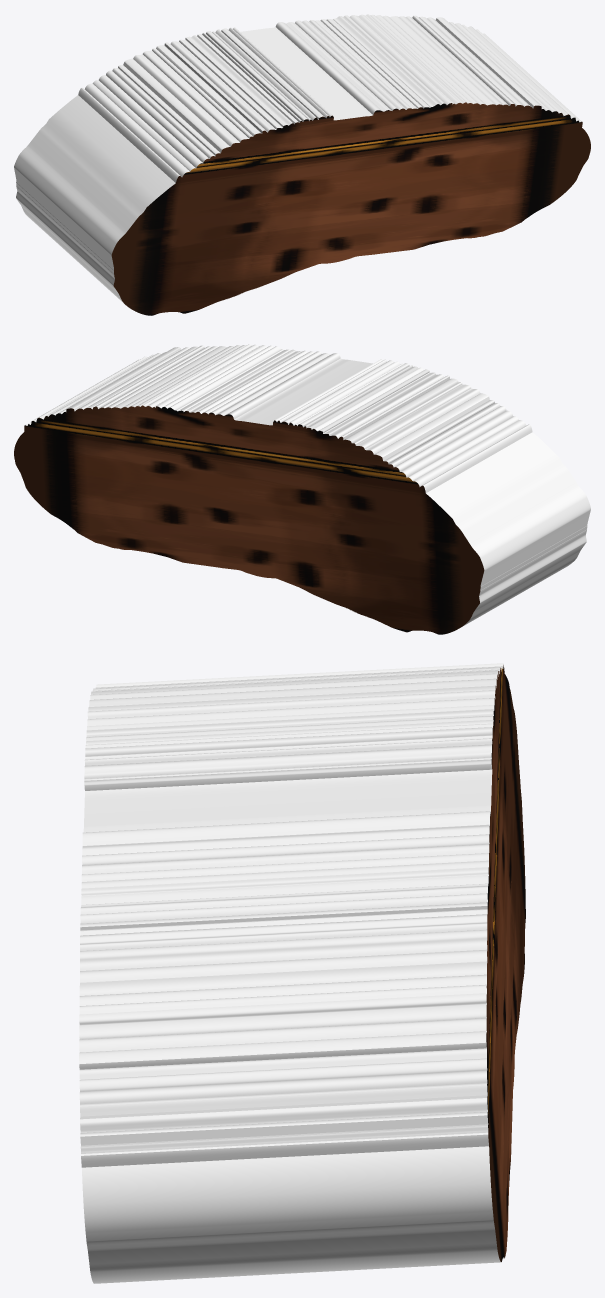
Rendered from Praia 3.0.dae.
The picture shows the model from 3 angles, top to bottom: view 1: azimuth 30°, elevation 25°; view 2: azimuth 150°, elevation 25°; view 3: azimuth 270°, elevation 25°; orthographic projection. The views are drawn at different scales.
Parts seen in each view (by area): view 1: Camada_1; view 2: Camada_1; view 3: Camada_1.
Boxes of the visible parts, box(x1,y1,x2,y2) form: Camada_1: box(14, 14, 590, 315); Camada_1: box(14, 344, 590, 634); Camada_1: box(79, 663, 525, 1283).
Bounding box in the file's own units: 1445 × 537 × 586.
